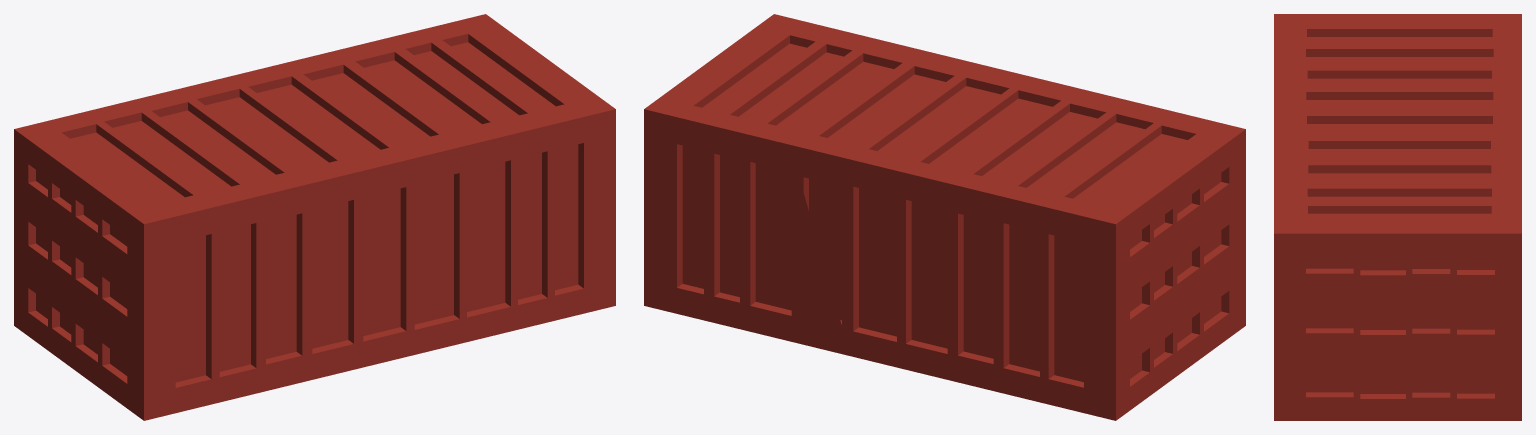
The model's file is iz_container1_v2.fbx.
The picture shows the model from 3 angles, left to right: view 1: azimuth 30°, elevation 25°; view 2: azimuth 150°, elevation 25°; view 3: azimuth 270°, elevation 25°; orthographic projection. The views are drawn at different scales.
Visible parts, largest first — view 1: Cube; view 2: Cube; view 3: Cube.
Part boxes in pixels (bbox=[...]): Cube: bbox=[14, 14, 615, 420]; Cube: bbox=[644, 14, 1245, 420]; Cube: bbox=[1274, 14, 1521, 420].
Bounding box in the file's own units: 1978 × 788 × 944.
